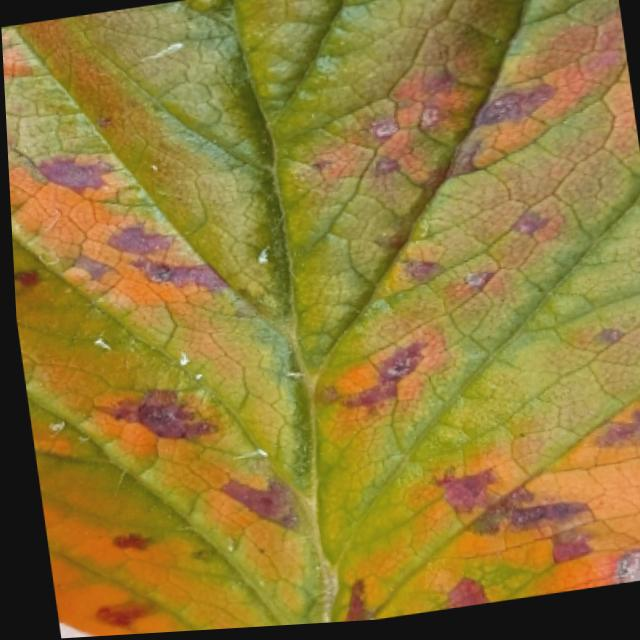Angular Leafspot: (1, 0, 640, 637)
